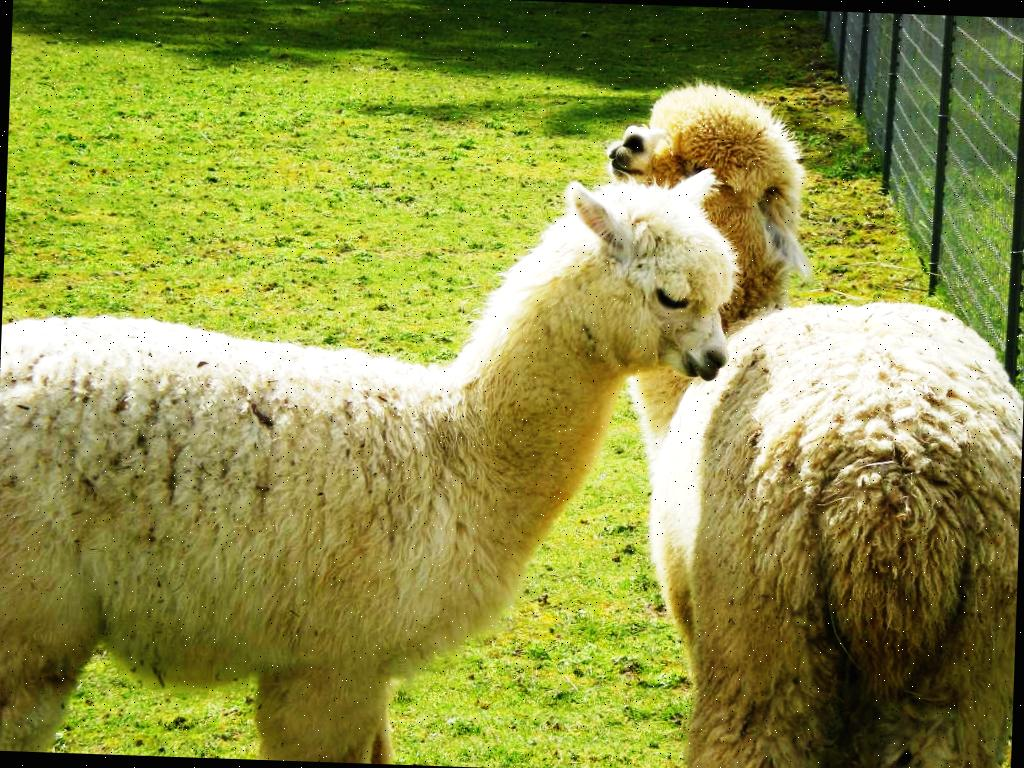Sheep: (0, 142, 741, 768), (579, 74, 1024, 768)
